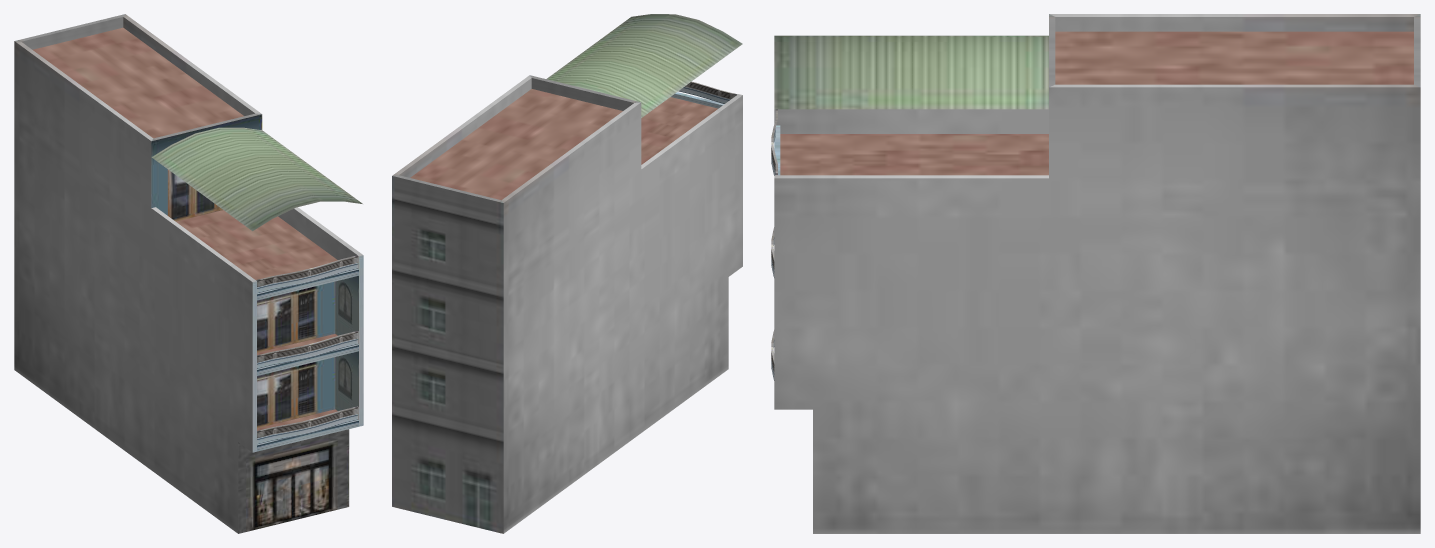
3 renders of one model, left to right at view 1: azimuth 30°, elevation 25°; view 2: azimuth 150°, elevation 25°; view 3: azimuth 270°, elevation 25°, orthographic. The views are drawn at different scales.
Parts seen in each view (by area): view 1: 5da93db5c66a21164047c6ab.001; view 2: 5da93db5c66a21164047c6ab.001; view 3: 5da93db5c66a21164047c6ab.001.
Boxes of the visible parts, <box> form: 5da93db5c66a21164047c6ab.001: <box>14,14,363,533</box>; 5da93db5c66a21164047c6ab.001: <box>392,14,742,533</box>; 5da93db5c66a21164047c6ab.001: <box>771,14,1420,533</box>.
Bounding box in the file's own units: 5.38 × 15.25 × 20.09.
1 material, 1 textured.
